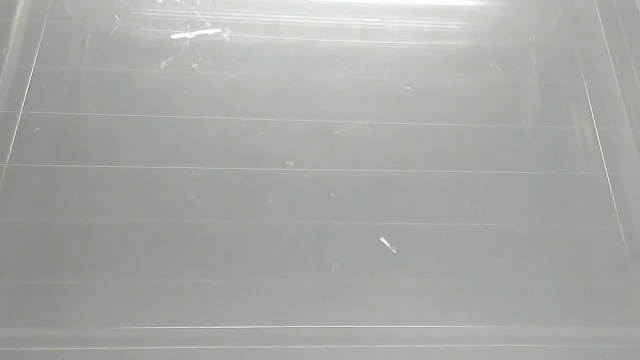alpha: (169, 26, 221, 41), (378, 233, 399, 259)
